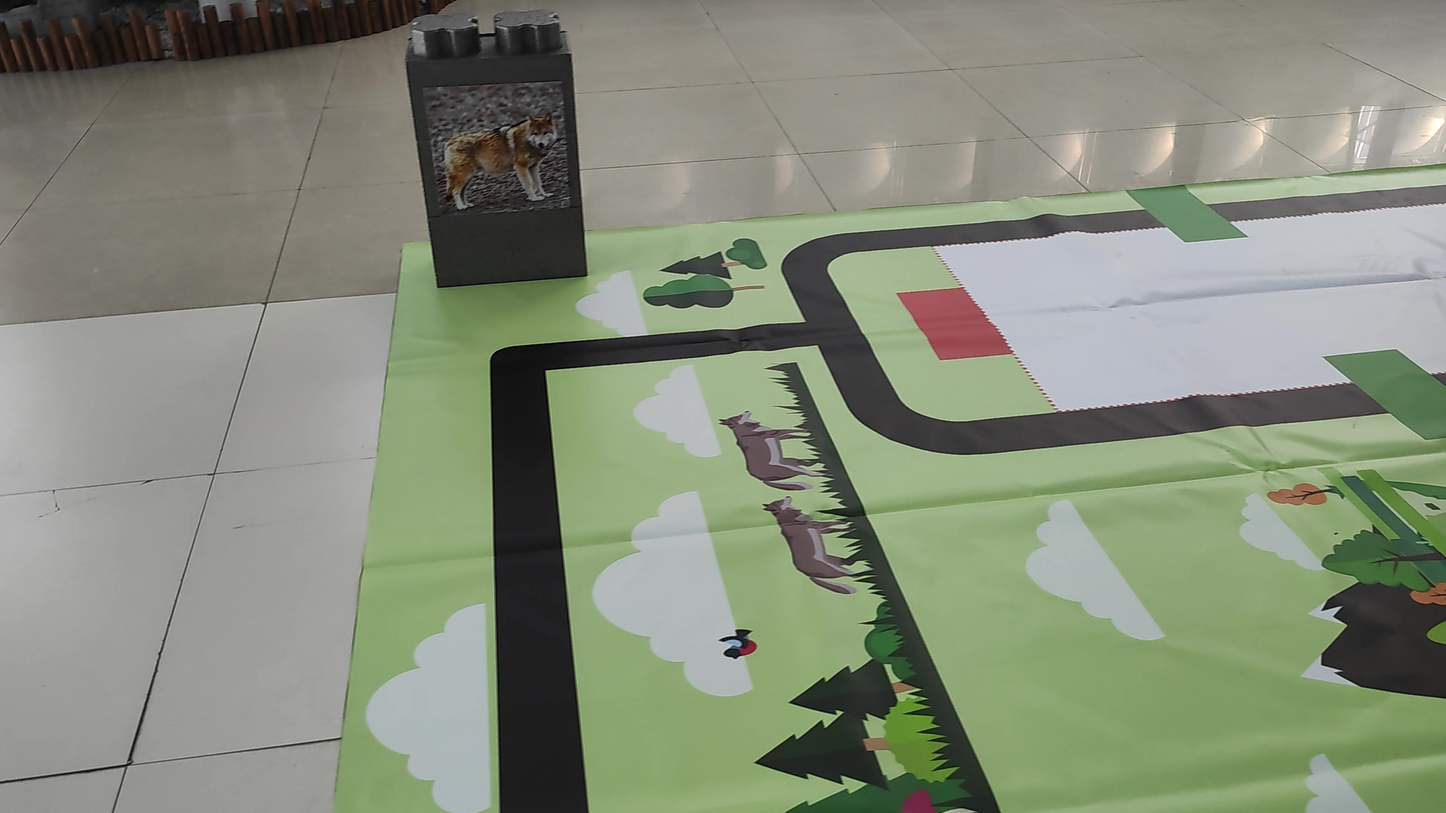wolf: (431, 85, 572, 211)
